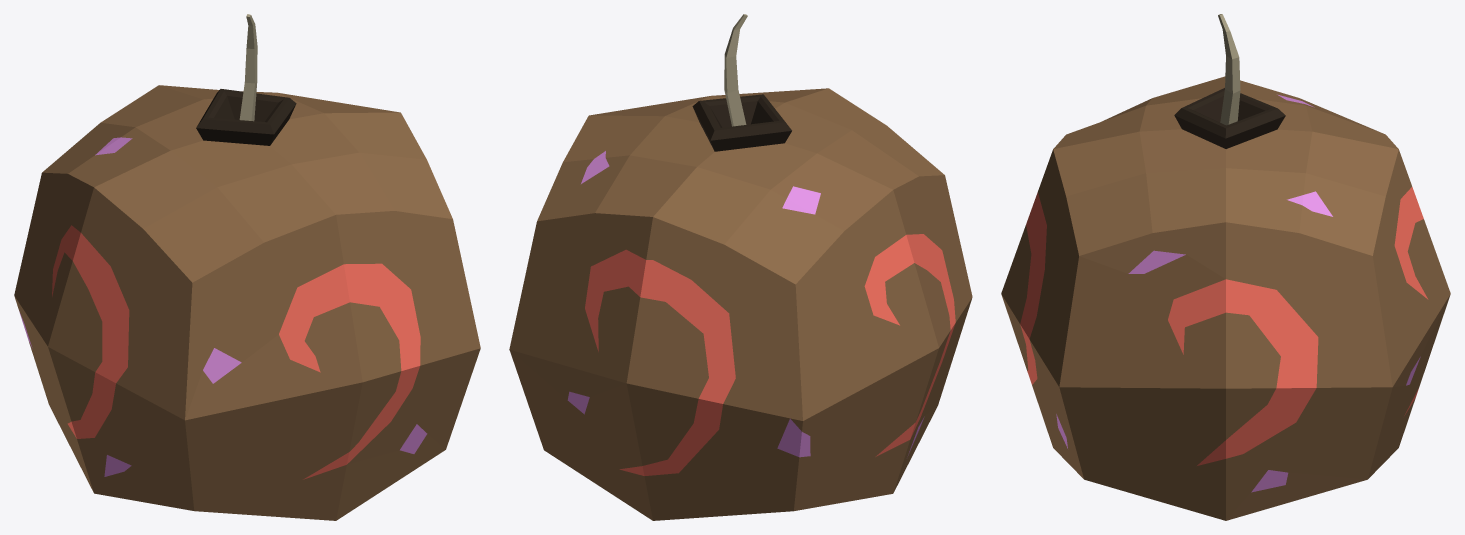
The model's file is SunstalBomb.fbx.
The picture shows the model from 3 angles, left to right: view 1: azimuth 30°, elevation 25°; view 2: azimuth 150°, elevation 25°; view 3: azimuth 270°, elevation 25°; orthographic projection. The views are drawn at different scales.
Parts seen in each view (by area): view 1: Cube.005; view 2: Cube.005; view 3: Cube.005.
Boxes of the visible parts, x1,y1,x2,y2 form: Cube.005: [14, 14, 480, 520]; Cube.005: [509, 14, 972, 520]; Cube.005: [1001, 14, 1450, 520].
Size of the model in its own units: 12.69 by 14.46 by 12.69.
